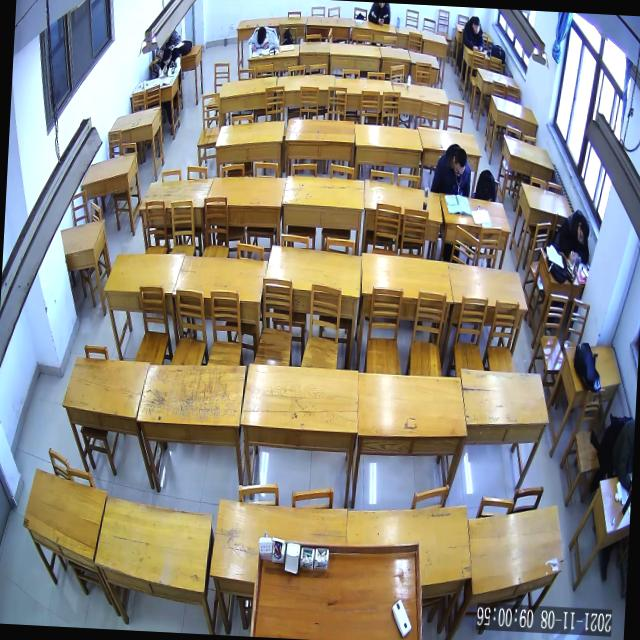bow: (247, 26, 280, 52)
down: (452, 148, 467, 178), (576, 218, 591, 245), (256, 26, 267, 46), (162, 48, 172, 66), (472, 16, 481, 36)
sit: (430, 143, 472, 197), (552, 209, 592, 264), (462, 15, 486, 52), (158, 46, 182, 78)
